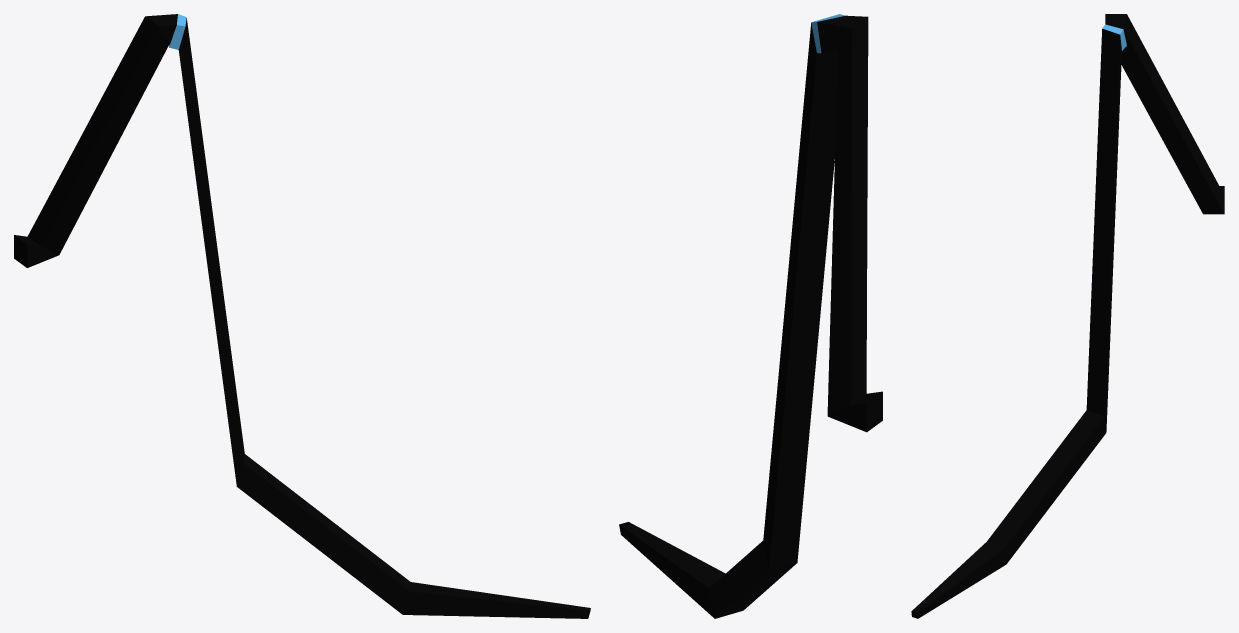
The model's file is FLegR.fbx.
The picture shows the model from 3 angles, left to right: view 1: azimuth 30°, elevation 25°; view 2: azimuth 150°, elevation 25°; view 3: azimuth 270°, elevation 25°; orthographic projection. The views are drawn at different scales.
Visible parts, largest first — view 1: FLegR; view 2: FLegR; view 3: FLegR.
Boxes of the visible parts, box(x1,y1,x2,y2) form: FLegR: box(14, 14, 590, 618); FLegR: box(619, 14, 882, 618); FLegR: box(911, 14, 1224, 618).
Bounding box in the file's own units: 38.95 × 55.75 × 33.08.
